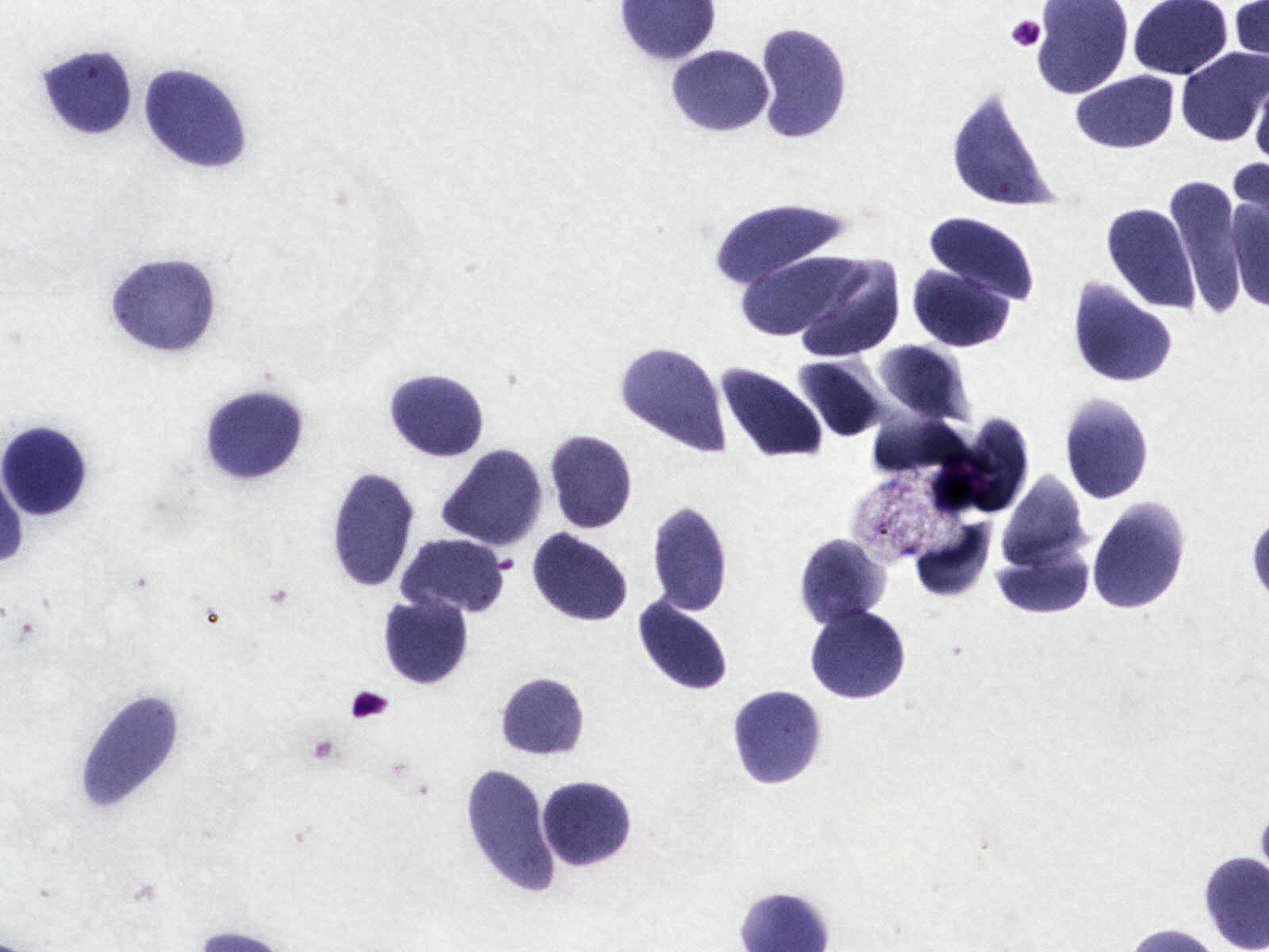Uninfected: (143, 65, 243, 171), (743, 252, 867, 336), (1094, 505, 1188, 614), (86, 697, 178, 808), (471, 769, 553, 892), (1071, 282, 1171, 381), (799, 256, 897, 357), (626, 351, 723, 453), (1167, 178, 1237, 315), (957, 101, 1041, 214), (1109, 207, 1201, 310), (811, 607, 909, 703), (720, 203, 839, 282), (526, 532, 627, 624), (443, 451, 542, 544), (386, 374, 488, 463), (762, 28, 845, 136), (937, 217, 1041, 299), (546, 431, 630, 532), (338, 475, 413, 588), (117, 261, 212, 350), (727, 367, 824, 454), (799, 539, 890, 628), (383, 593, 470, 685), (1068, 399, 1148, 499), (210, 393, 301, 479), (401, 536, 503, 612), (736, 693, 821, 784), (670, 51, 769, 128), (951, 415, 1029, 512), (1003, 469, 1082, 564), (3, 425, 85, 515), (1075, 77, 1178, 148), (655, 507, 725, 611), (46, 54, 130, 134), (542, 788, 629, 865), (914, 273, 1006, 343), (796, 362, 884, 435), (640, 608, 720, 688), (502, 678, 583, 757), (999, 542, 1087, 612), (879, 344, 964, 415), (918, 519, 994, 595), (867, 421, 964, 469)
